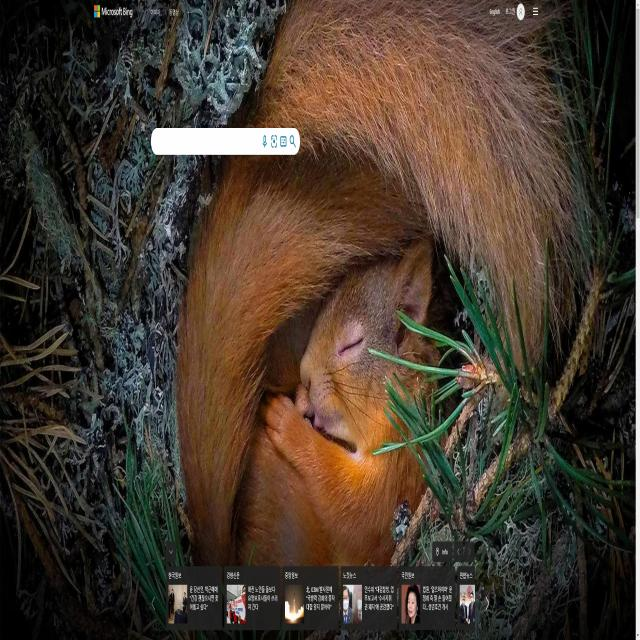menu-bar: (488, 2, 540, 25)
search: (150, 127, 302, 156)
tab-bar: (92, 1, 181, 23)
